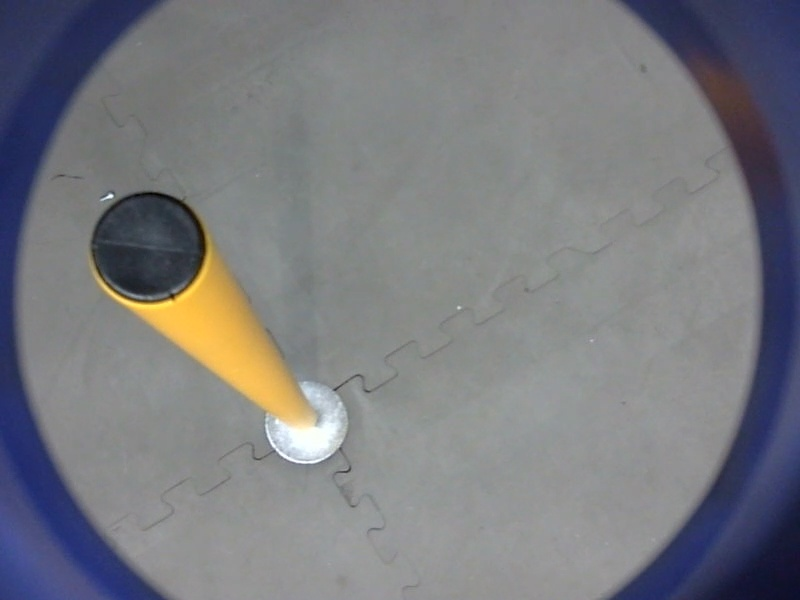tip: (82, 186, 214, 313)
